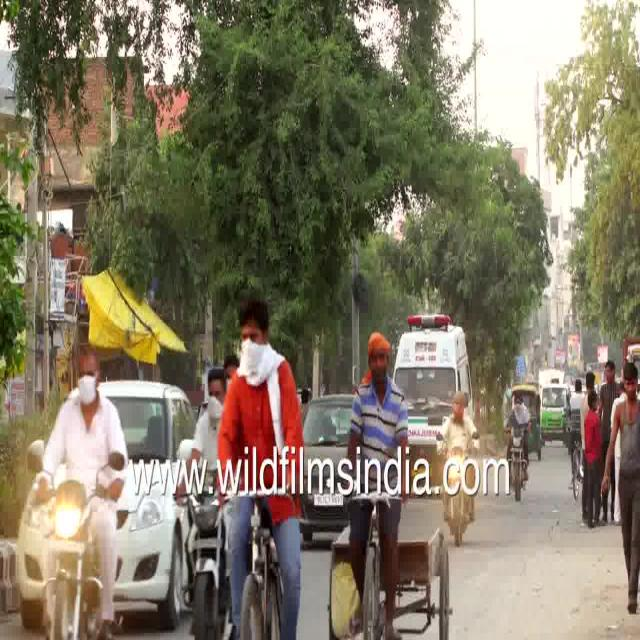ambulance: (388, 304, 477, 404)
